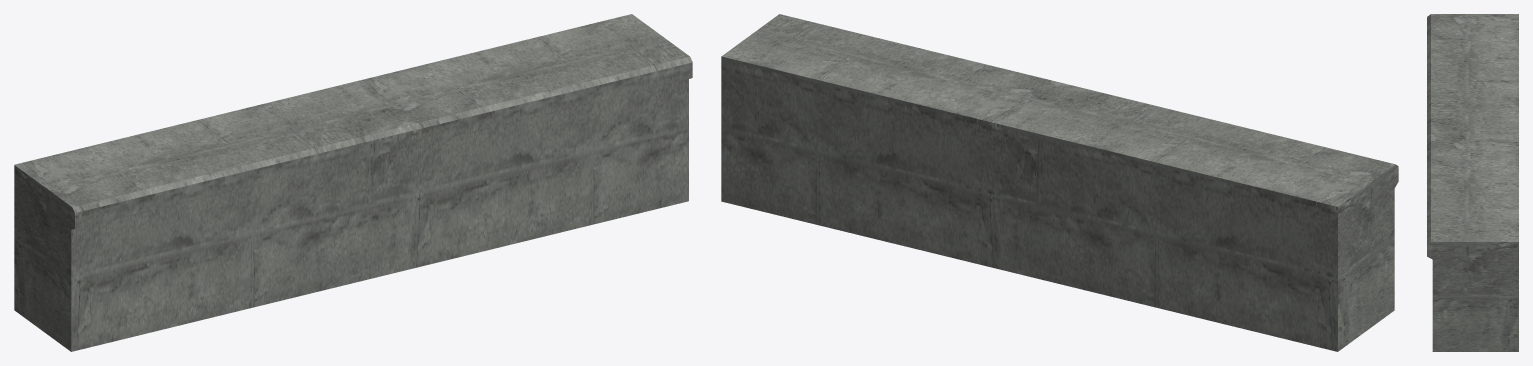
Rendered from PlatformEdge_LOD0.fbx.
3 renders of one model, left to right at view 1: azimuth 30°, elevation 25°; view 2: azimuth 150°, elevation 25°; view 3: azimuth 270°, elevation 25°, orthographic. The views are drawn at different scales.
Parts seen in each view (by area): view 1: PlatformEdge; view 2: PlatformEdge; view 3: PlatformEdge.
Boxes of the visible parts, box(x1,y1,x2,y2) form: PlatformEdge: box(14, 14, 692, 351); PlatformEdge: box(721, 14, 1398, 351); PlatformEdge: box(1427, 14, 1518, 351).
Bounding box in the file's own units: 2 × 0.45 × 0.341.
1 material, 1 textured.
